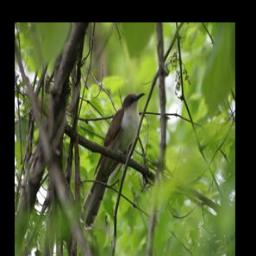Cuckoo: (80, 89, 147, 230)
